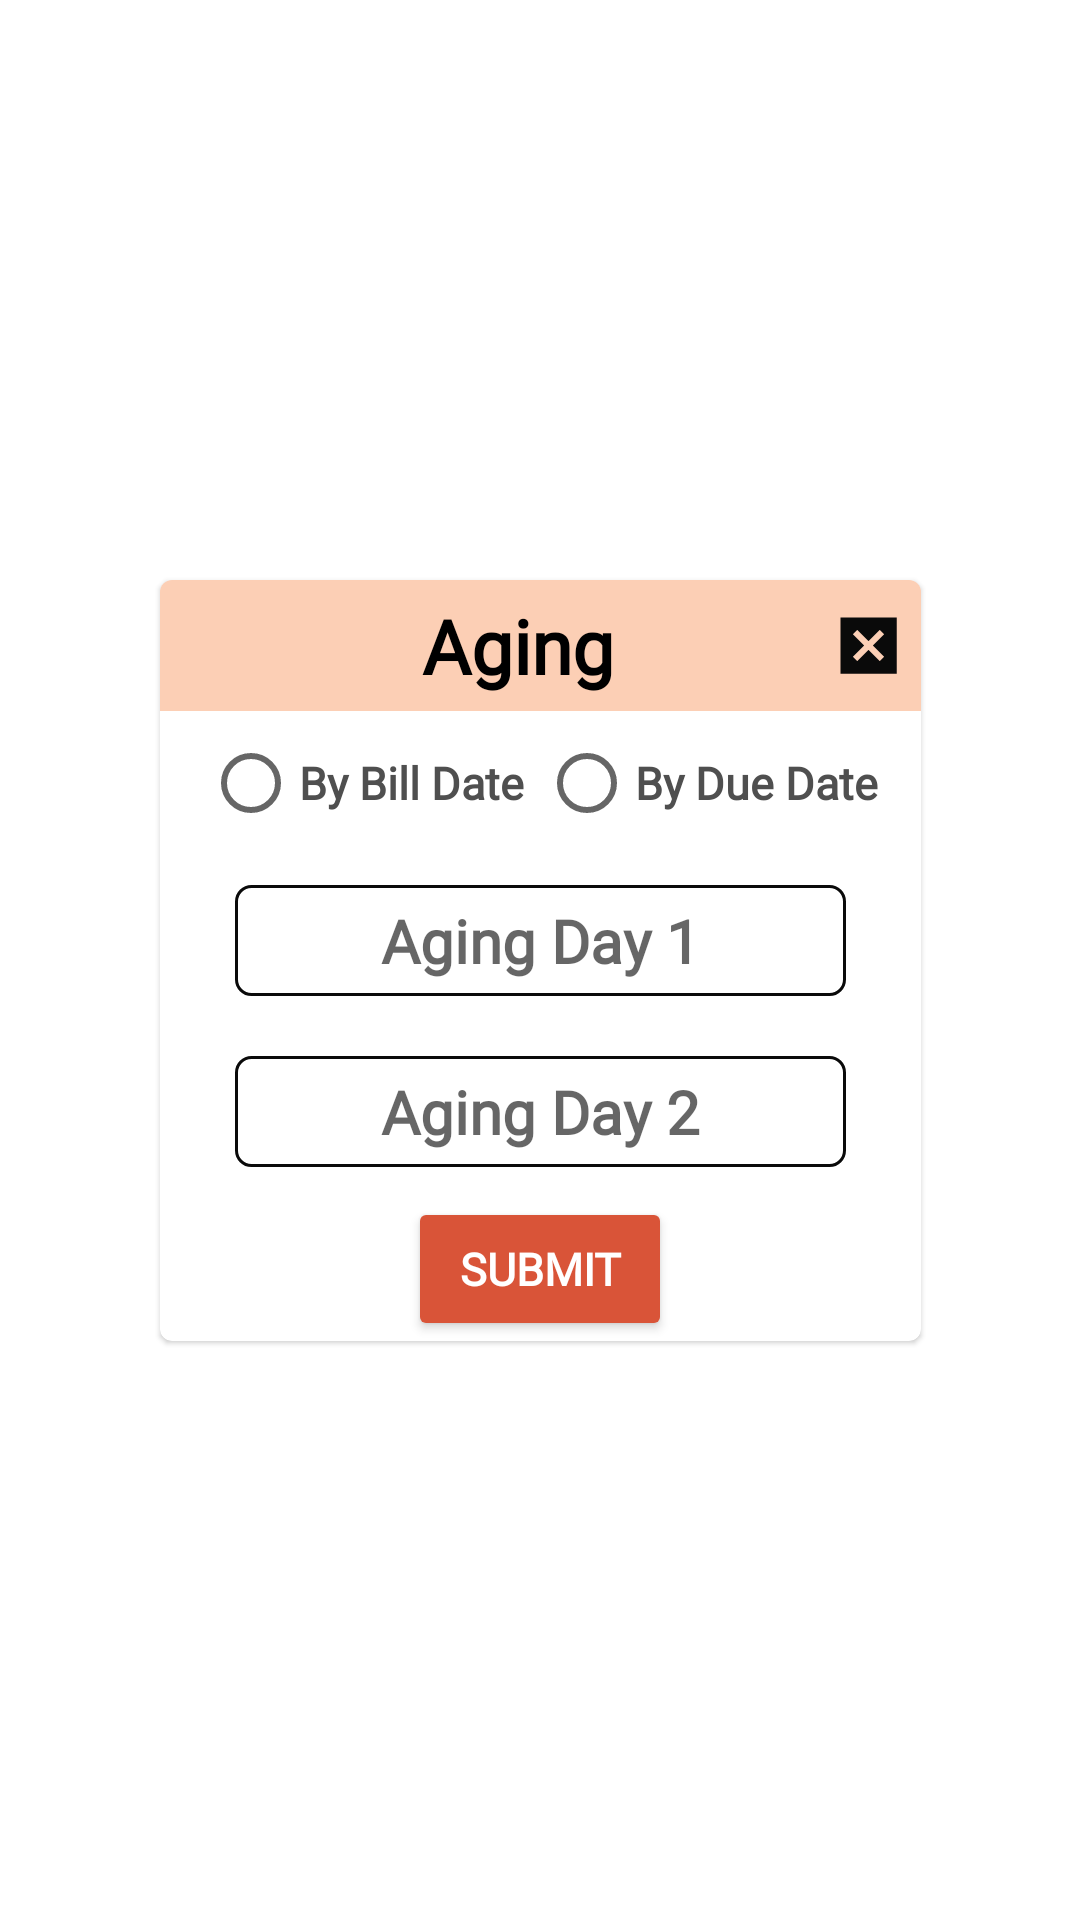

Screen size 1080w x 1920h. Icon name, then its center in pixels as (x=x, y=y):
cancel: (x=868, y=645)
